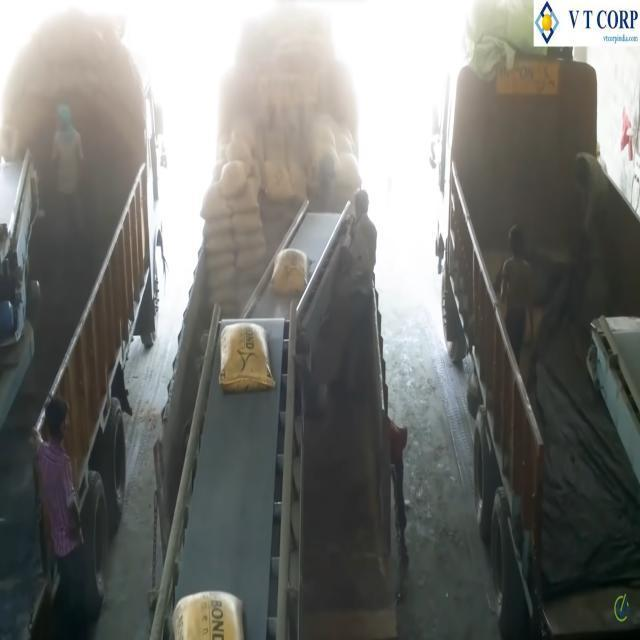gunny_bag: (218, 322, 275, 392), (172, 591, 244, 640), (271, 247, 308, 293), (264, 159, 294, 200), (200, 181, 231, 219), (228, 176, 259, 213), (219, 159, 247, 196), (236, 243, 266, 269), (207, 264, 236, 288), (231, 210, 262, 231), (203, 215, 231, 237), (204, 232, 234, 252), (234, 229, 265, 247), (206, 251, 235, 270)
